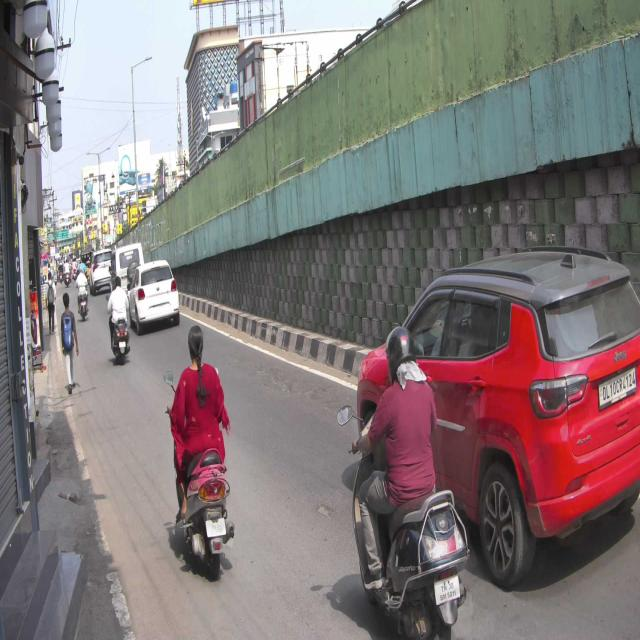single_rider: (351, 323, 469, 640), (164, 322, 236, 580)
